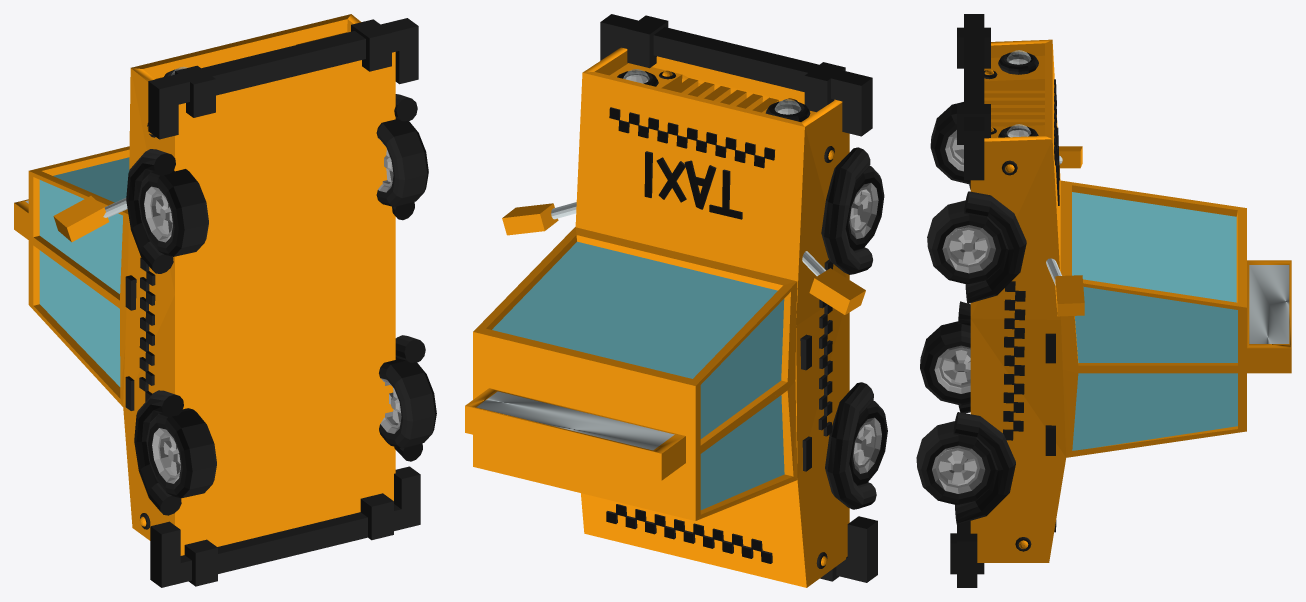
Rendered from taxi.dae.
The picture shows the model from 3 angles, left to right: view 1: azimuth 30°, elevation 25°; view 2: azimuth 150°, elevation 25°; view 3: azimuth 270°, elevation 25°; orthographic projection. The views are drawn at different scales.
Visible parts, largest first — view 1: taxi; view 2: taxi; view 3: taxi.
Part boxes in pixels (<box>): taxi: <box>14,14,436,587</box>; taxi: <box>465,14,887,587</box>; taxi: <box>916,14,1291,587</box>.
Bounding box in the file's own units: 1.08 × 1.1 × 1.5.
